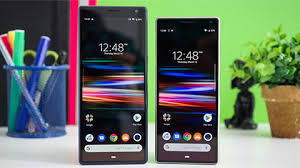sony: (72, 1, 150, 168), (157, 12, 224, 168)
